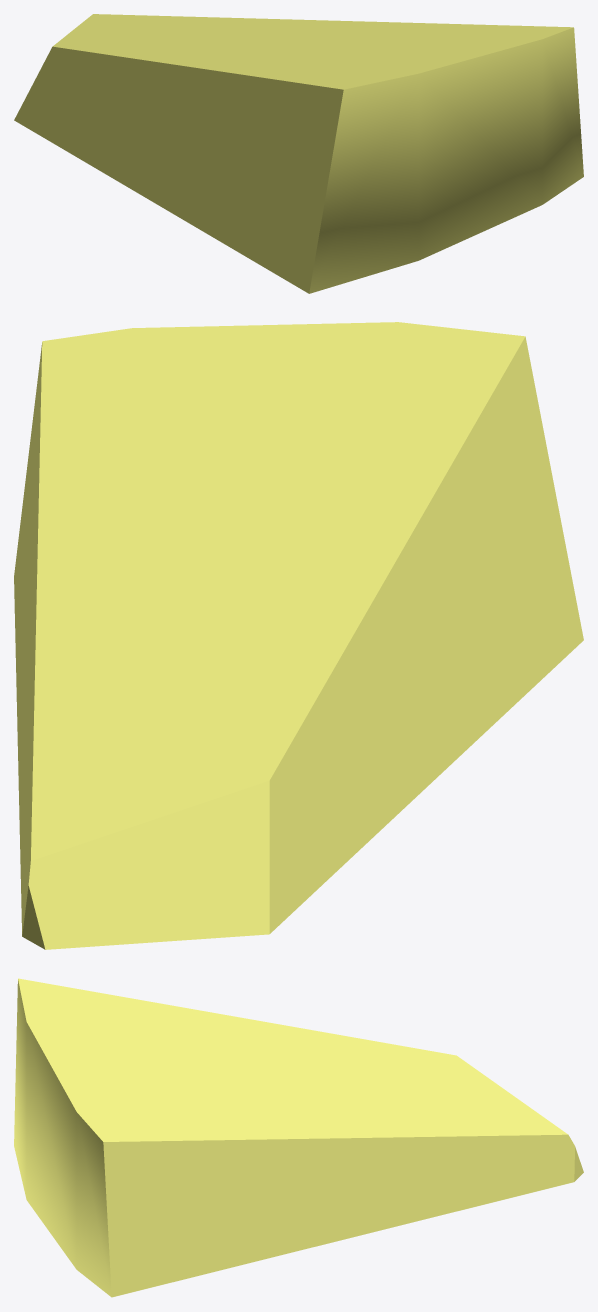
Rendered from breakableCenter_cell_003.fbx.
3 views of the same model, one above another, from view 1: azimuth 30°, elevation 25°; view 2: azimuth 150°, elevation 25°; view 3: azimuth 270°, elevation 25° (orthographic). The views are drawn at different scales.
Parts seen in each view (by area): view 1: breakableCenter_cell.003; view 2: breakableCenter_cell.003; view 3: breakableCenter_cell.003.
Part boxes in pixels (left/top/right/bottom): breakableCenter_cell.003: left=14, top=14, right=583, bottom=293; breakableCenter_cell.003: left=14, top=322, right=583, bottom=949; breakableCenter_cell.003: left=14, top=978, right=583, bottom=1297.
Bounding box in the file's own units: 20.52 × 10.28 × 28.78.
